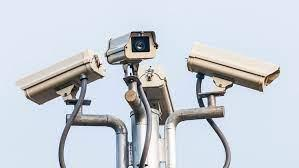tutu: (13, 51, 107, 105), (186, 42, 281, 92), (105, 31, 159, 64)
